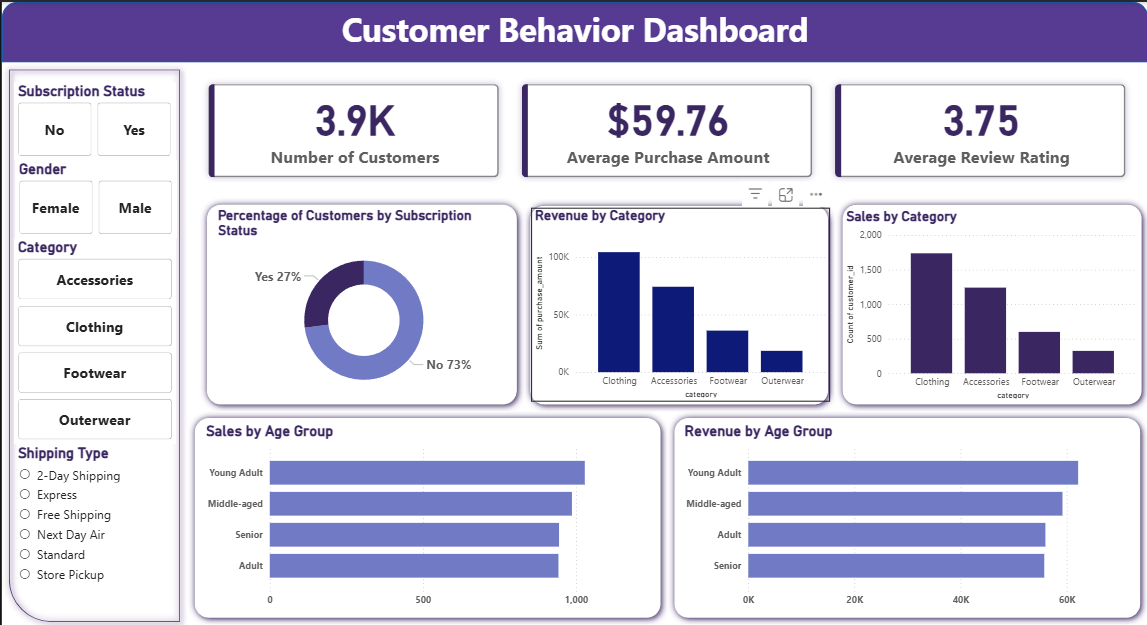

The page's visual inventory and layout, read from the dashboard file:
{"tool":"powerbi","page":{"name":"Page 1","canvas":[1500,820],"ordinal":0},"visuals":[{"type":"cardVisual","fields":{"Data":["customer.Number of Customers","customer.Average Purchase Amount","customer.Average Review Rating"]},"box":[242.1,79.2,1257.8,178.7],"z":0},{"type":"shape","box":[0,0,1499.9,79.2],"z":1000},{"type":"textbox","box":[0,0,1499.9,79.2],"z":2000},{"type":"shape","box":[259.3,256.5,423.6,279.5],"z":3000},{"type":"donutChart","title":"Percentage of Customers by Subscription Status","fields":{"Category":["customer.subscription_status"],"Y":["CountNonNull(customer.customer_id)"]},"box":[278.1,269.4,390.5,253.6],"z":4000},{"type":"shape","box":[682.9,257.9,407.7,278.1],"z":5000},{"type":"shape","box":[1090.7,256.5,409.2,279.5],"z":6000},{"type":"clusteredColumnChart","title":"Revenue by Category","fields":{"Y":["Sum(customer.purchase_amount)"],"Category":["customer.category"]},"box":[693,269.4,390.5,253.6],"z":7000},{"type":"clusteredColumnChart","title":"Sales by Category","fields":{"Y":["CountNonNull(customer.customer_id)"],"Category":["customer.category"]},"box":[1099.3,270.9,390.5,253.6],"z":8000},{"type":"shape","box":[0,79.2,241.8,741.3],"z":9000},{"type":"advancedSlicerVisual","title":"Subscription Status","fields":{"Values":["customer.subscription_status"]},"box":[15.8,105.1,211.6,102.2],"z":10000},{"type":"advancedSlicerVisual","title":"Gender","fields":{"Values":["customer.gender"]},"box":[17.3,207.3,211.6,102.2],"z":11000},{"type":"advancedSlicerVisual","title":"Category","fields":{"Values":["customer.category"]},"box":[15.8,309.5,211.6,269.2],"z":12000},{"type":"listSlicer","title":"Shipping Type","fields":{"Values":["customer.shipping_type"]},"box":[15.8,578.6,210.2,241.8],"z":12001},{"type":"shape","box":[870.8,535.5,627.6,279.2],"z":12002},{"type":"clusteredBarChart","title":"Revenue by Age Group","fields":{"Y":["Sum(customer.purchase_amount)"],"Category":["customer.age_group"]},"box":[888.1,549.9,590.2,250.5],"z":12003},{"type":"shape","box":[243.3,535.5,627.6,279.2],"z":12004},{"type":"clusteredBarChart","title":"Sales by Age Group","fields":{"Category":["customer.age_group"],"Y":["CountNonNull(customer.customer_id)"]},"box":[262,549.9,590.2,250.5],"z":12005}]}

Visuals, with their boxes in screenshot pixels (x1, y1, x2, y2), scaled from the page's 1500x820 canvas onto the 1147x625 screenshot:
cardVisual - customer.Number of Customers x customer.Average Purchase Amount: {"x1": 185, "y1": 60, "x2": 1146, "y2": 197}
shape: {"x1": 0, "y1": 0, "x2": 1146, "y2": 60}
textbox: {"x1": 0, "y1": 0, "x2": 1146, "y2": 60}
shape: {"x1": 198, "y1": 196, "x2": 522, "y2": 409}
"Percentage of Customers by Subscription Status" donutChart: {"x1": 213, "y1": 205, "x2": 511, "y2": 399}
shape: {"x1": 522, "y1": 197, "x2": 834, "y2": 409}
shape: {"x1": 834, "y1": 196, "x2": 1146, "y2": 409}
"Revenue by Category" clusteredColumnChart: {"x1": 530, "y1": 205, "x2": 829, "y2": 399}
"Sales by Category" clusteredColumnChart: {"x1": 841, "y1": 206, "x2": 1139, "y2": 400}
shape: {"x1": 0, "y1": 60, "x2": 185, "y2": 624}
"Subscription Status" advancedSlicerVisual: {"x1": 12, "y1": 80, "x2": 174, "y2": 158}
"Gender" advancedSlicerVisual: {"x1": 13, "y1": 158, "x2": 175, "y2": 236}
"Category" advancedSlicerVisual: {"x1": 12, "y1": 236, "x2": 174, "y2": 441}
"Shipping Type" listSlicer: {"x1": 12, "y1": 441, "x2": 173, "y2": 624}
shape: {"x1": 666, "y1": 408, "x2": 1146, "y2": 621}
"Revenue by Age Group" clusteredBarChart: {"x1": 679, "y1": 419, "x2": 1130, "y2": 610}
shape: {"x1": 186, "y1": 408, "x2": 666, "y2": 621}
"Sales by Age Group" clusteredBarChart: {"x1": 200, "y1": 419, "x2": 652, "y2": 610}
